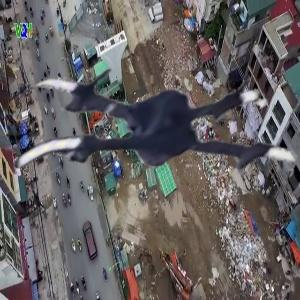drone: (14, 18, 291, 295)
